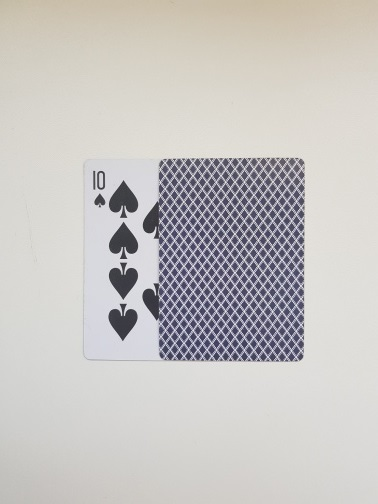ten: (81, 159, 231, 362)
